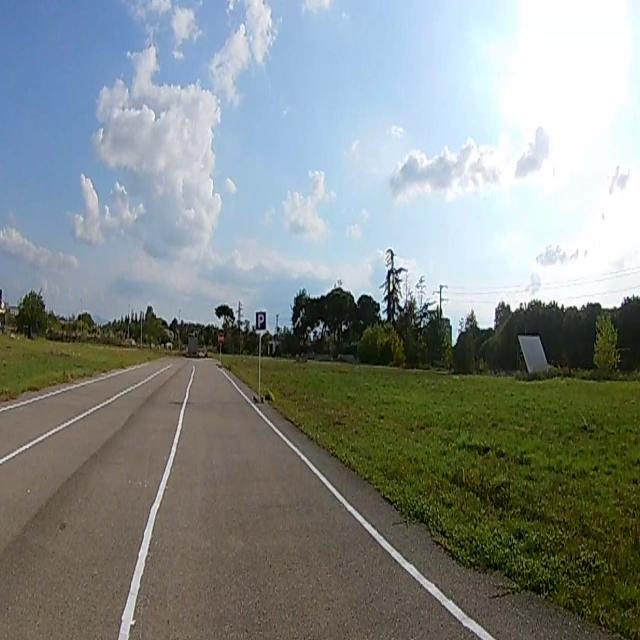park: (256, 312, 265, 329)
